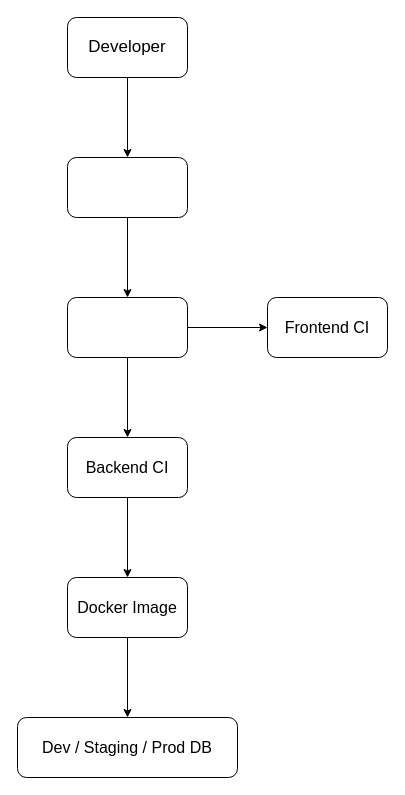
The diagram is 405 pixels wide and 795 high, and some of its shapes have lost their labels. The shapes that lost their labels are listed below. From the top down, each one's centre as x and y in pixels, then its label:
At (127,187): "Github Repo".
At (127,327): "Github Actions".
